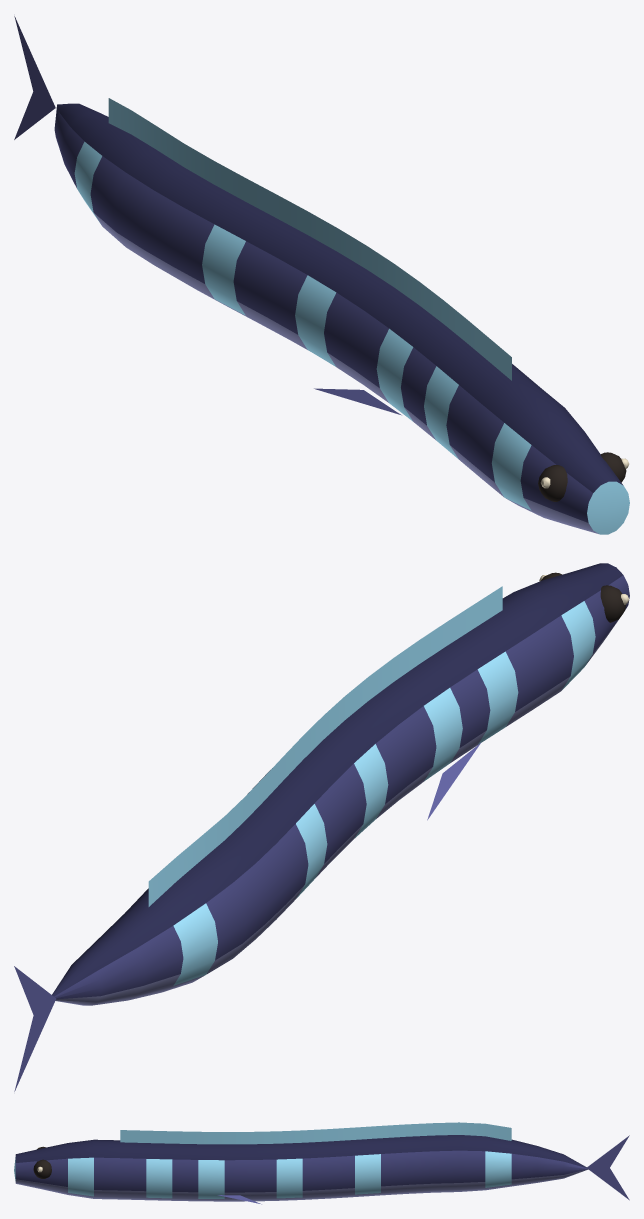
The model's file is moon_eel.fbx.
The picture shows the model from 3 angles, top to bottom: view 1: azimuth 30°, elevation 25°; view 2: azimuth 150°, elevation 25°; view 3: azimuth 270°, elevation 25°; orthographic projection. The views are drawn at different scales.
Parts seen in each view (by area): view 1: Fish_moon_eel_EXP; view 2: Fish_moon_eel_EXP; view 3: Fish_moon_eel_EXP.
Part boxes in pixels (left/top/right/bottom): Fish_moon_eel_EXP: left=14, top=16, right=629, bottom=534; Fish_moon_eel_EXP: left=14, top=563, right=629, bottom=1091; Fish_moon_eel_EXP: left=14, top=1122, right=629, bottom=1204.
Size of the model in its own units: 0.1135 by 0.1188 by 0.9122.
